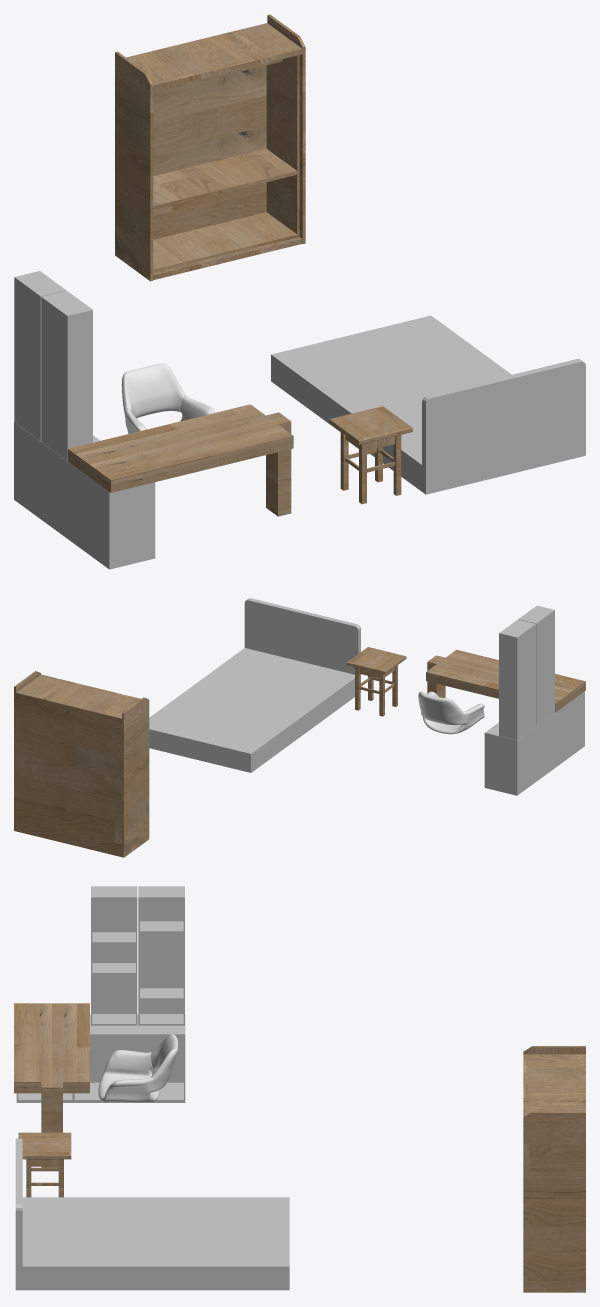
The model's file is Guestroom.fbx.
3 renders of one model, top to bottom at view 1: azimuth 30°, elevation 25°; view 2: azimuth 150°, elevation 25°; view 3: azimuth 270°, elevation 25°, orthographic. The views are drawn at different scales.
Parts seen in each view (by area): view 1: Guestroom_Cabinet_2, Guestroom_Bed, Guestroom_Cabinet_1, Guestroom_Desk_1, Guestroom_Desk_2, Guestroom_Chair_1; view 2: Guestroom_Cabinet_2, Guestroom_Bed, Guestroom_Cabinet_1, Guestroom_Desk_1, Guestroom_Desk_2, Guestroom_Chair_1; view 3: Guestroom_Bed, Guestroom_Cabinet_1, Guestroom_Cabinet_2, Guestroom_Desk_1, Guestroom_Chair_1, Guestroom_Desk_2.
Boxes of the visible parts, x1,y1,x2,y2 form: Guestroom_Cabinet_2: [115, 14, 305, 281]; Guestroom_Bed: [271, 315, 585, 494]; Guestroom_Cabinet_1: [14, 271, 155, 569]; Guestroom_Desk_1: [68, 404, 293, 516]; Guestroom_Desk_2: [329, 406, 412, 504]; Guestroom_Chair_1: [121, 363, 214, 433]; Guestroom_Cabinet_2: [14, 671, 149, 857]; Guestroom_Bed: [149, 598, 360, 772]; Guestroom_Cabinet_1: [484, 605, 584, 795]; Guestroom_Desk_1: [426, 649, 585, 727]; Guestroom_Desk_2: [346, 647, 406, 716]; Guestroom_Chair_1: [418, 691, 484, 734]; Guestroom_Bed: [15, 1138, 289, 1290]; Guestroom_Cabinet_1: [16, 886, 185, 1102]; Guestroom_Cabinet_2: [523, 1046, 585, 1292]; Guestroom_Desk_1: [14, 1003, 89, 1167]; Guestroom_Chair_1: [98, 1034, 178, 1102]; Guestroom_Desk_2: [18, 1132, 71, 1197].
Size of the model in its own units: 1426 by 634 by 1655.
